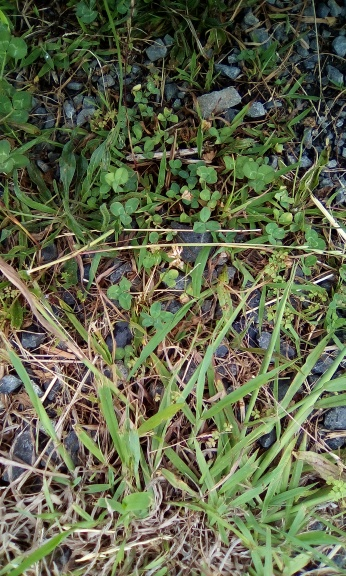4leaf: (139, 302, 175, 331)
